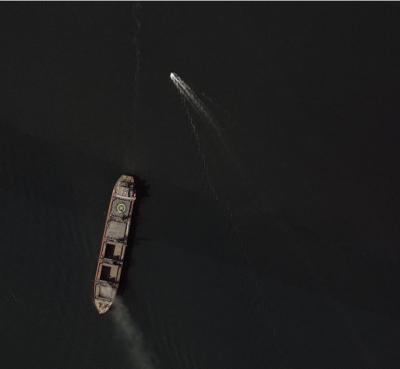boat: (92, 173, 138, 314), (170, 72, 178, 80)
